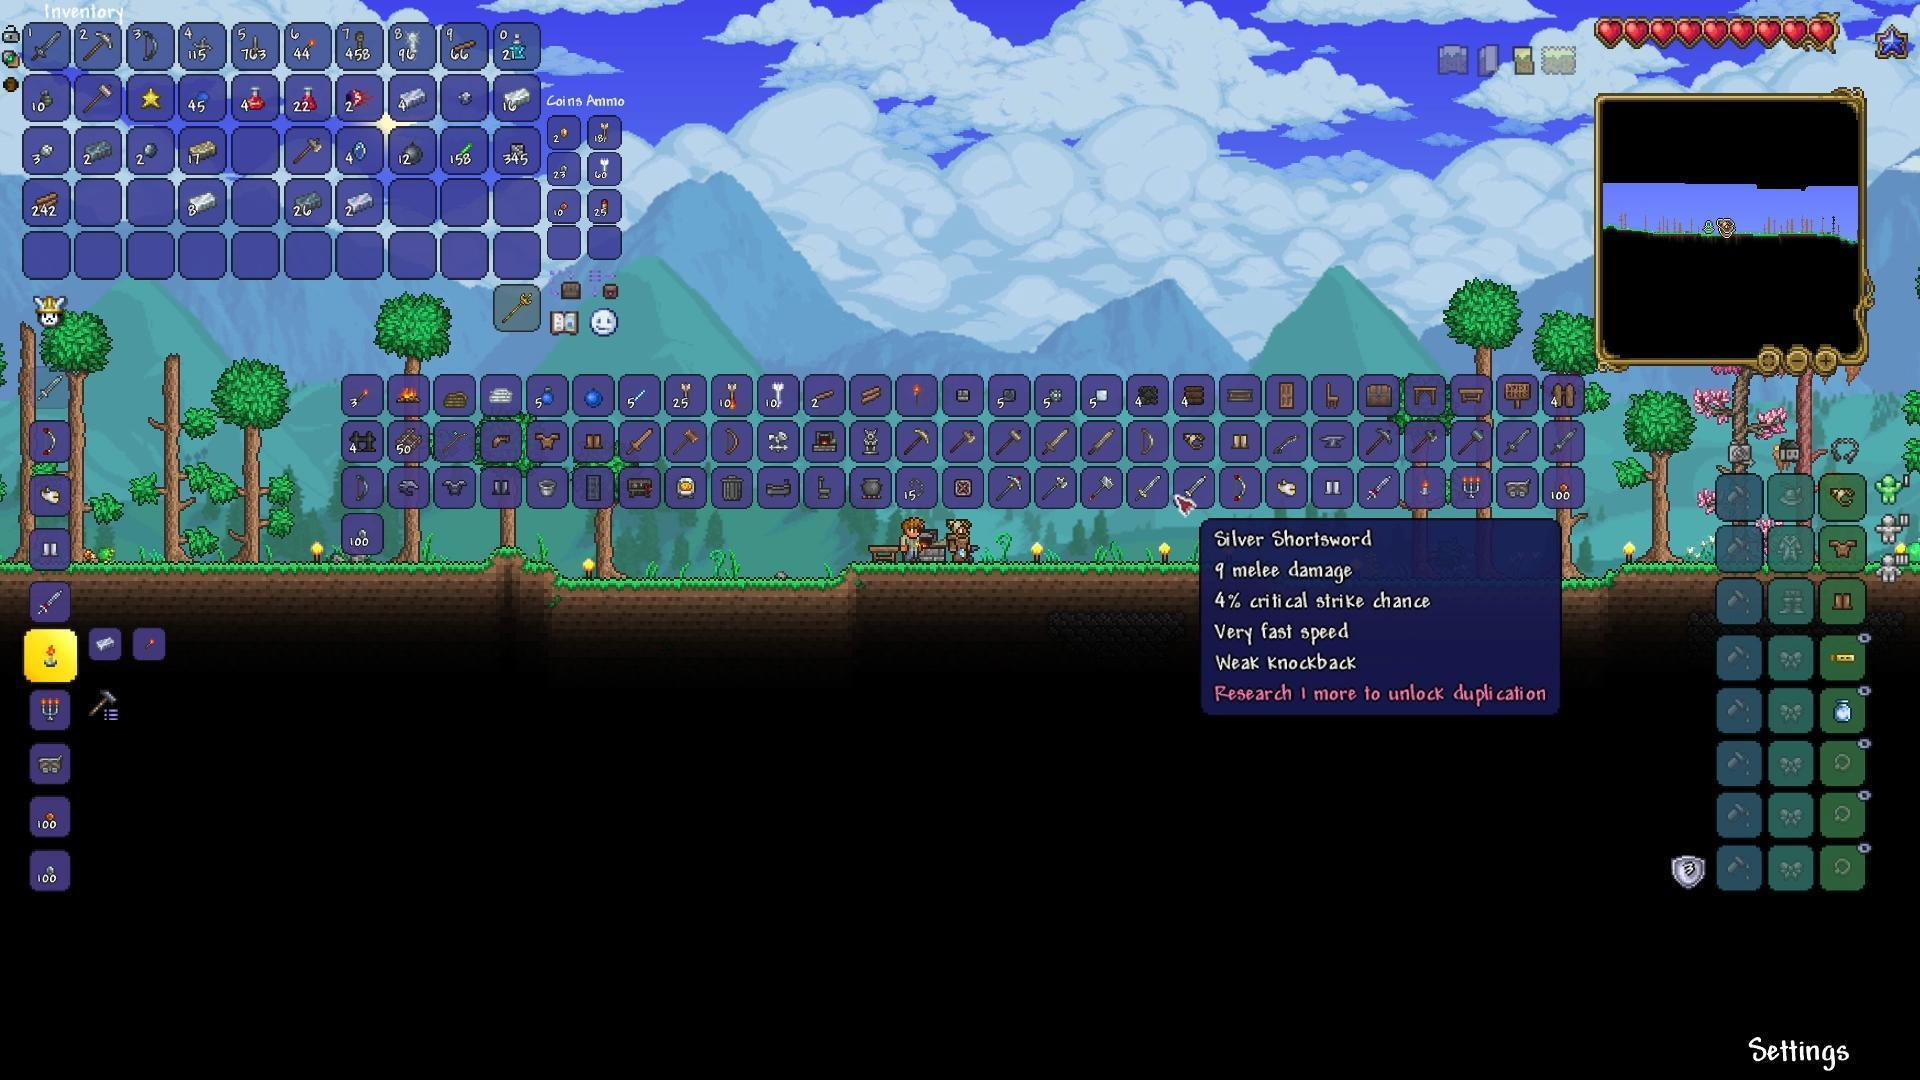anvil: (1319, 431, 1349, 454)
arrow: (724, 378, 738, 410), (771, 380, 786, 409), (680, 380, 692, 410)
axe: (290, 135, 323, 164), (1408, 430, 1440, 458), (1042, 473, 1069, 500), (947, 431, 977, 455)
bomb: (401, 138, 426, 166)
bow: (140, 26, 158, 65), (353, 469, 372, 502), (41, 425, 59, 456), (725, 427, 738, 458), (1234, 473, 1247, 504)
breastplate: (530, 429, 560, 452), (440, 476, 469, 497), (1828, 539, 1857, 559)
eye: (343, 87, 372, 108)
glowstick: (452, 138, 477, 165)
grenade: (40, 87, 55, 108)
heart: (1648, 17, 1677, 50), (1623, 16, 1651, 50), (1594, 17, 1625, 47), (1702, 17, 1727, 47), (1730, 17, 1754, 47), (1679, 18, 1702, 47)
helmet: (1826, 485, 1858, 512), (36, 479, 62, 509), (1179, 429, 1209, 452), (1274, 475, 1298, 498), (489, 433, 516, 454), (397, 477, 419, 497)
knife: (252, 33, 261, 59)
legs: (1829, 588, 1858, 613), (582, 429, 607, 454), (1324, 473, 1348, 498), (38, 538, 62, 560), (489, 477, 513, 496)
lens: (353, 137, 371, 166)
pickaxe: (80, 30, 113, 65), (1366, 429, 1391, 458), (1000, 473, 1025, 501), (905, 429, 930, 456), (1145, 243, 1201, 252)
rope: (405, 26, 423, 59)
shuriken: (191, 33, 212, 55)
sword: (1501, 427, 1531, 458), (1547, 429, 1578, 458), (1039, 429, 1069, 458), (1182, 472, 1209, 504), (36, 589, 65, 618), (1087, 429, 1114, 458), (1135, 473, 1163, 501), (626, 429, 651, 458), (1367, 473, 1390, 504)
wood: (855, 377, 885, 406), (36, 189, 61, 211)
workbench: (1456, 382, 1486, 404)
